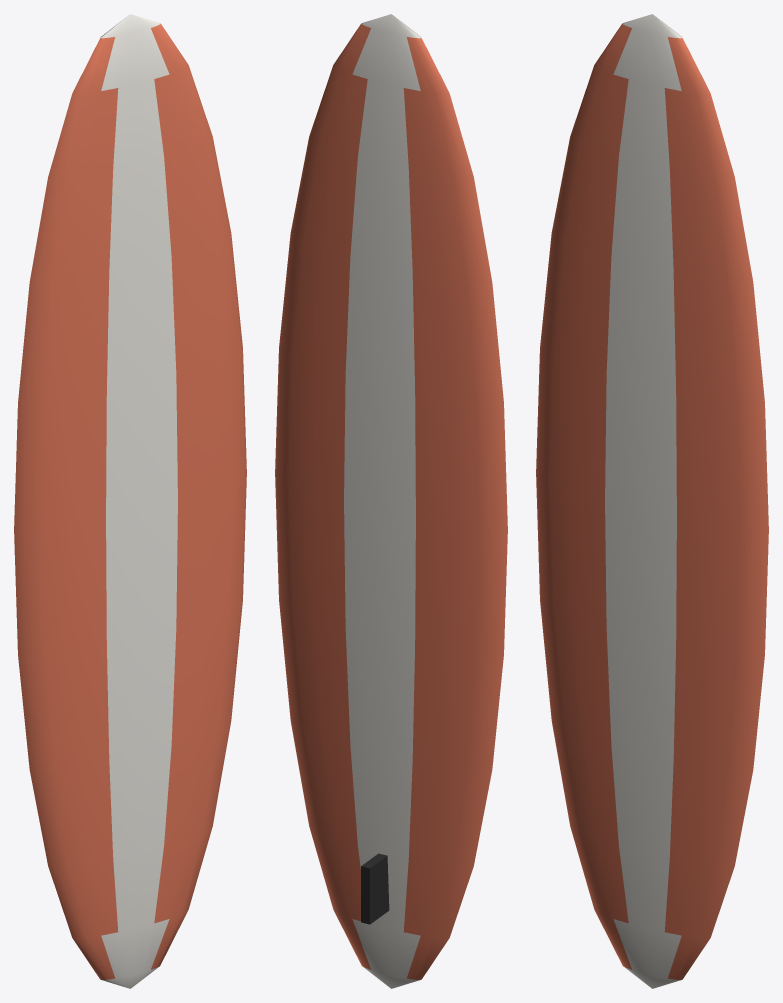
File: b_surf_coral.gltf
3 views of the same model, side by side, from view 1: azimuth 30°, elevation 25°; view 2: azimuth 150°, elevation 25°; view 3: azimuth 330°, elevation 25° (orthographic).
Visible parts, largest first — view 1: b_surf_coral; view 2: b_surf_coral; view 3: b_surf_coral.
Boxes of the visible parts, left/top/right/bottom form: b_surf_coral: left=14, top=14, right=246, bottom=988; b_surf_coral: left=275, top=14, right=507, bottom=988; b_surf_coral: left=536, top=14, right=768, bottom=988.
Size of the model in its own units: 0.52 by 2.08 by 0.1468.
1 material, 1 textured.
